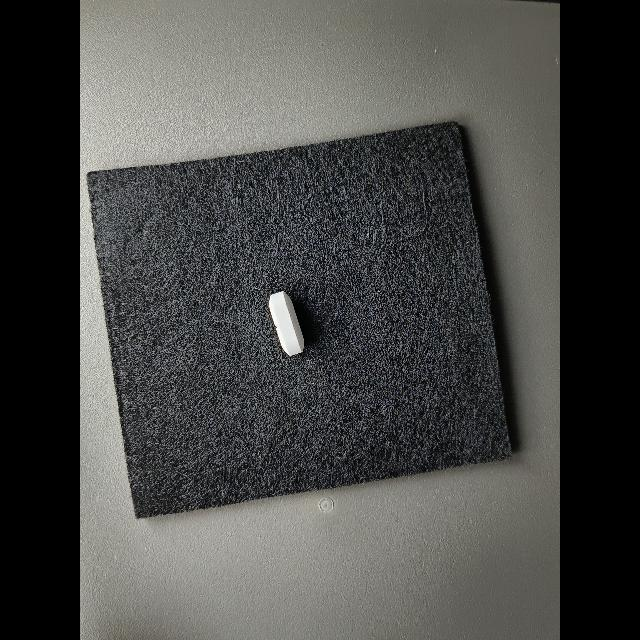Intact Pill: (269, 291, 304, 356)
